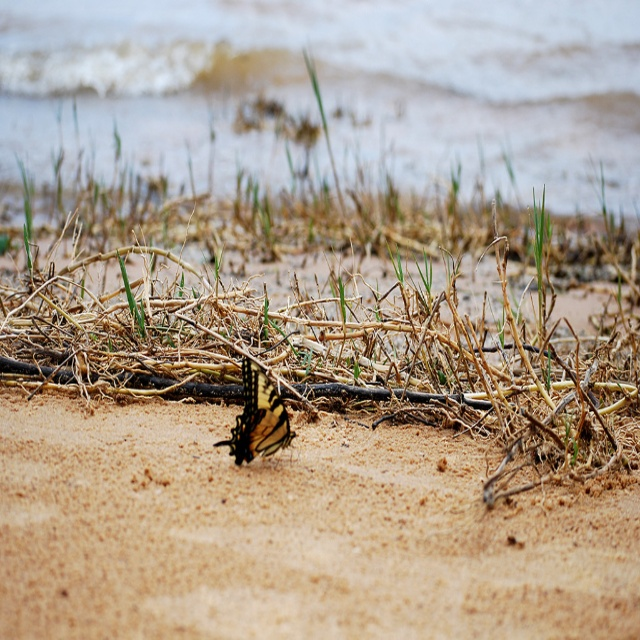Butterfly: (225, 358, 300, 473)
